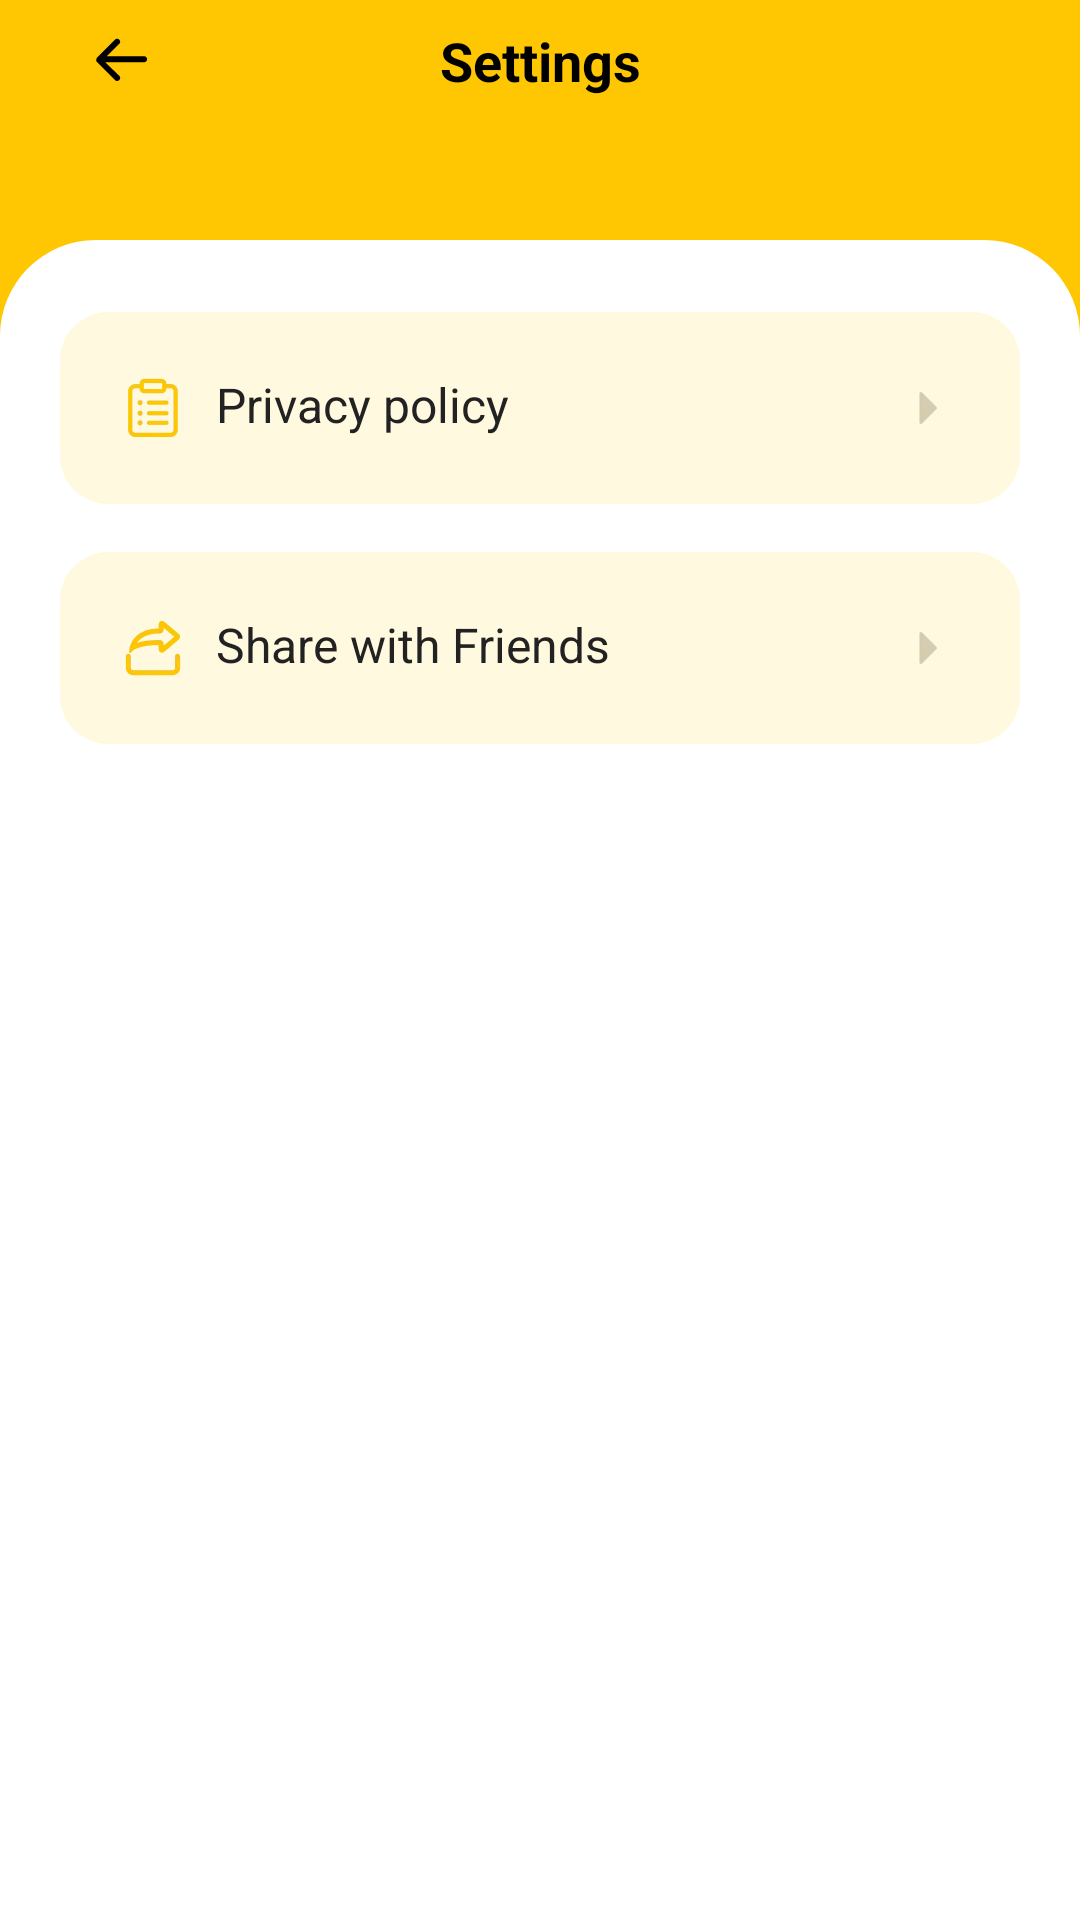

Point at icon controls on the screen. Image size 1080w x 1920h, points as (x=x, y=y).
back: (x=121, y=59)
